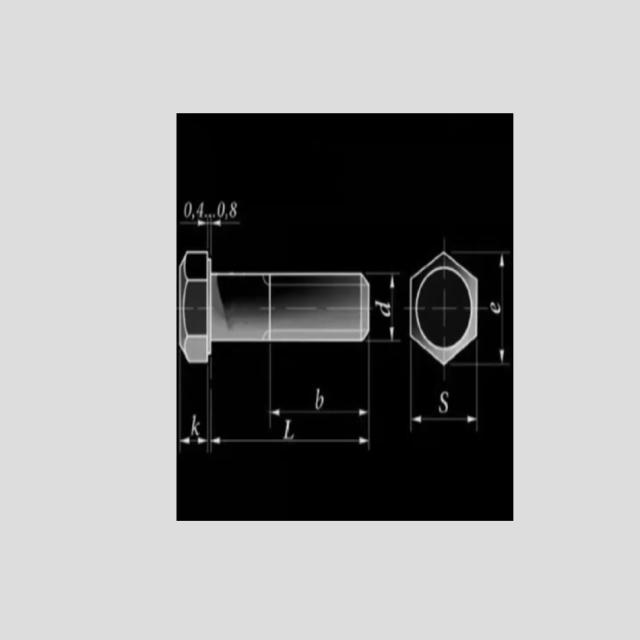marking_line: (176, 364, 371, 453), (213, 344, 371, 453), (268, 344, 370, 426), (408, 366, 479, 432), (480, 248, 511, 368), (176, 365, 209, 452), (372, 271, 401, 345), (209, 219, 244, 256), (178, 222, 209, 249)
numeric: (184, 199, 192, 220), (217, 200, 226, 218), (229, 200, 237, 218), (197, 201, 204, 219)
